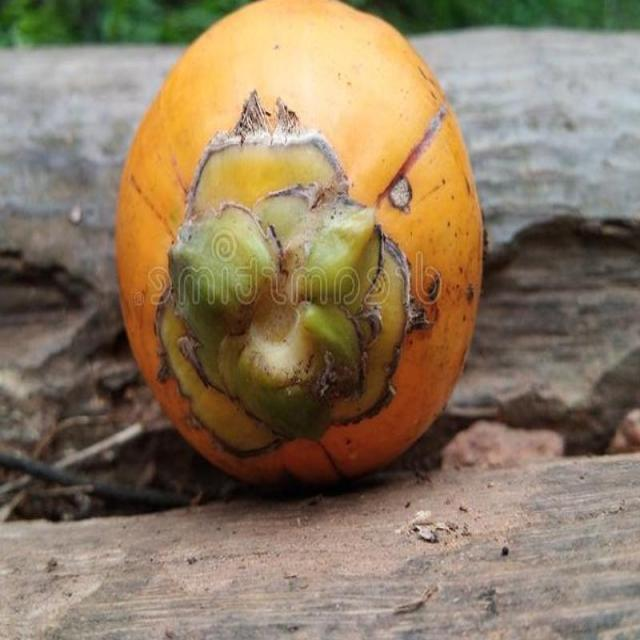good: (114, 0, 486, 492)
